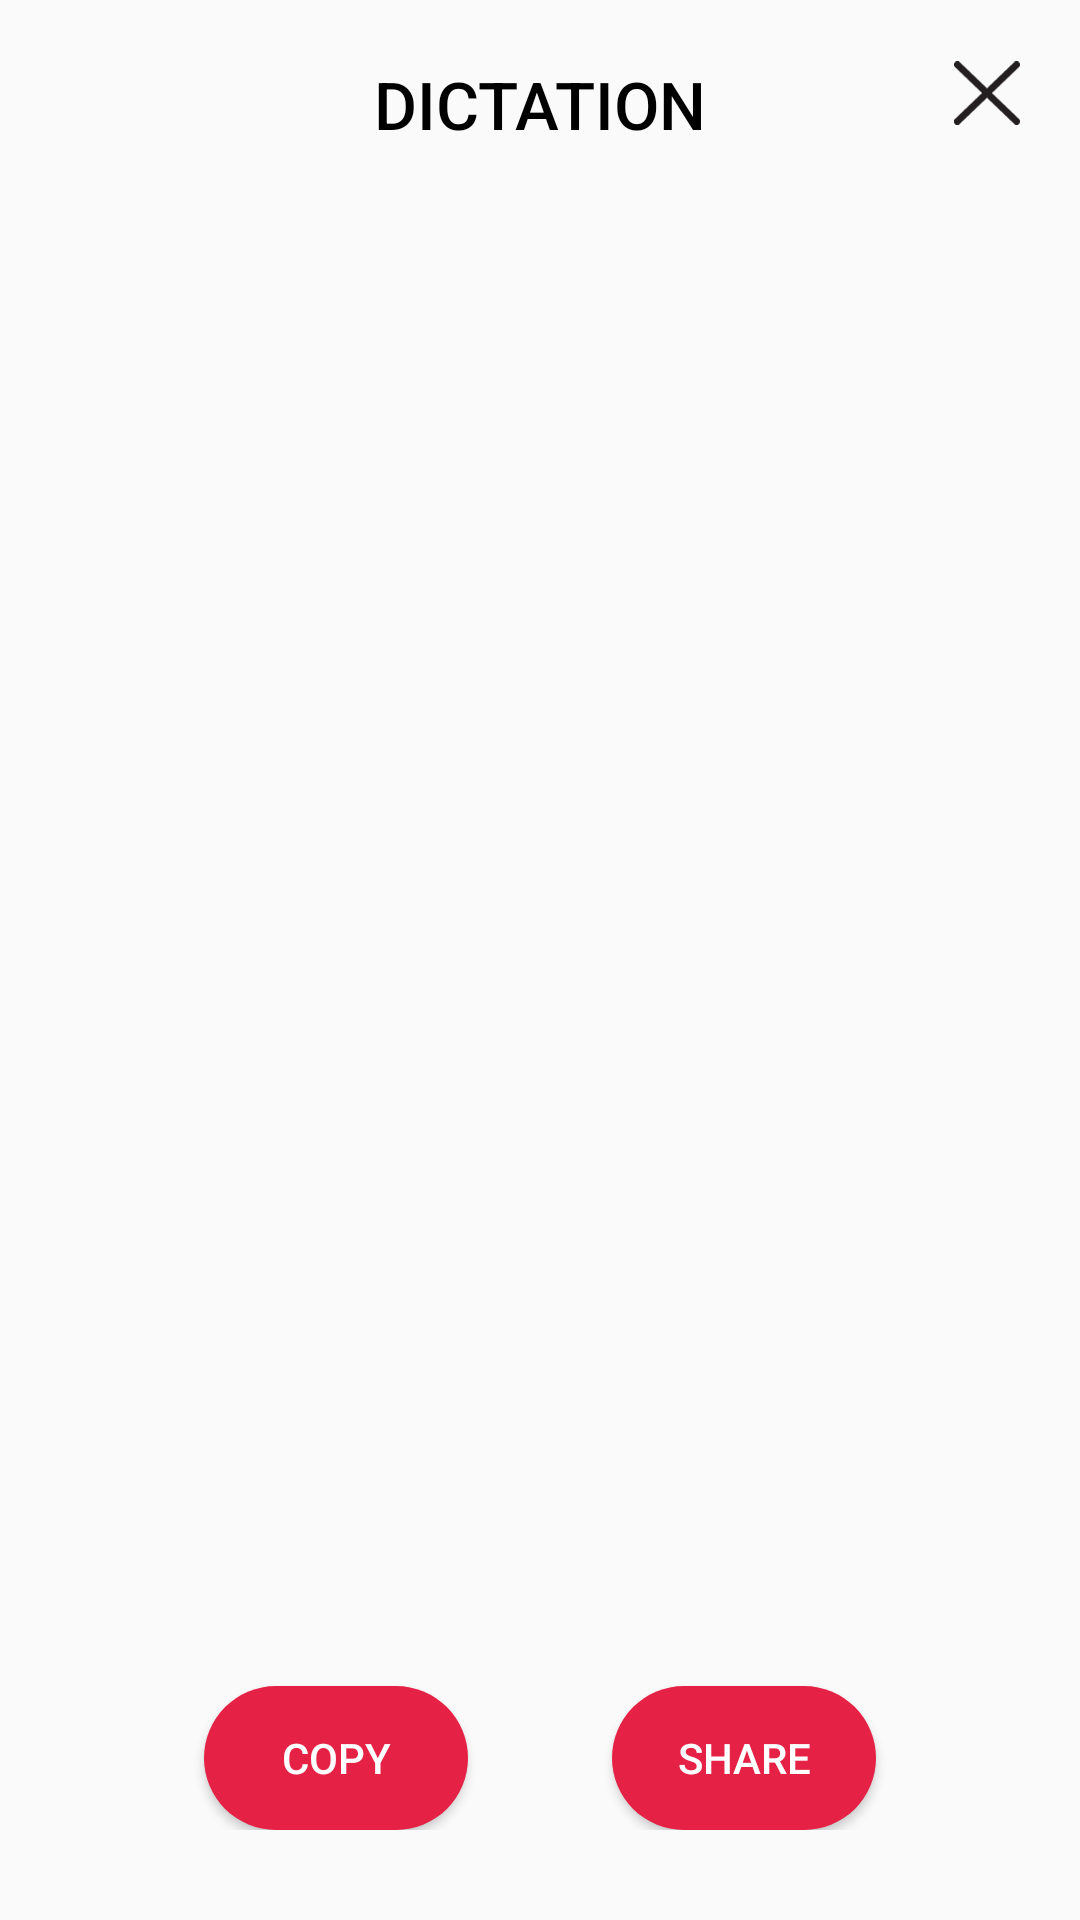

Icons on this 1080 x 1920 Android screen, each with the point to tap as (x,y):
close: (987,93)
